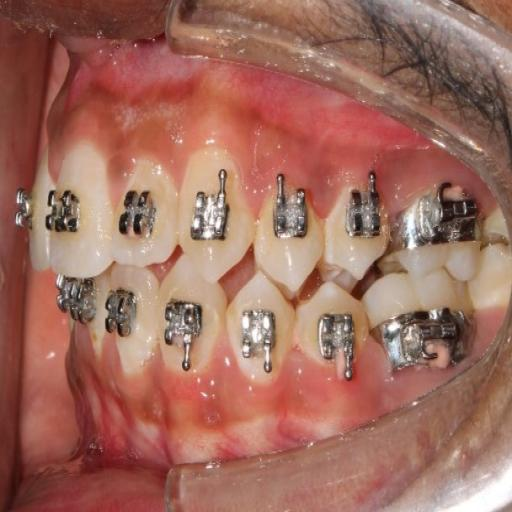correct_brace: (226, 270, 296, 384), (254, 175, 322, 291), (186, 169, 230, 247), (164, 288, 208, 366), (316, 307, 361, 378), (237, 309, 279, 373), (119, 189, 160, 247), (47, 186, 80, 243)
incorrect_brace: (46, 148, 114, 276), (114, 154, 176, 266), (271, 180, 310, 252)
